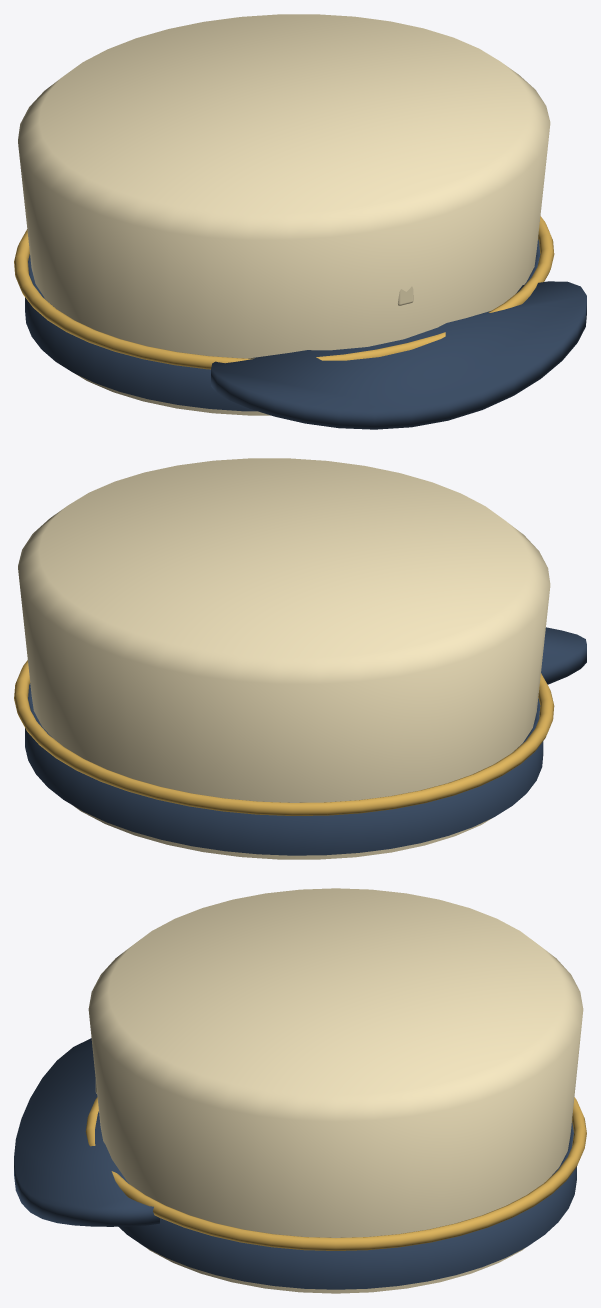
Rendered from 20-lake-captain.glb.
3 views of the same model, one above another, from view 1: azimuth 30°, elevation 25°; view 2: azimuth 150°, elevation 25°; view 3: azimuth 270°, elevation 25° (orthographic).
Visible parts, largest first — view 1: Hat20_Crown1, Hat20_Visor3, Hat20_Band2, Hat20_Piping4; view 2: Hat20_Crown1, Hat20_Band2, Hat20_Piping4, Hat20_Visor3; view 3: Hat20_Crown1, Hat20_Band2, Hat20_Visor3, Hat20_Piping4.
Part boxes in pixels (x1=…): Hat20_Crown1: x1=18, y1=14, x2=550, y2=415; Hat20_Visor3: x1=211, y1=281, x2=586, y2=429; Hat20_Band2: x1=25, y1=239, x2=540, y2=411; Hat20_Piping4: x1=14, y1=216, x2=554, y2=369; Hat20_Crown1: x1=18, y1=458, x2=550, y2=859; Hat20_Band2: x1=25, y1=683, x2=543, y2=855; Hat20_Piping4: x1=14, y1=660, x2=554, y2=815; Hat20_Visor3: x1=541, y1=627, x2=586, y2=684; Hat20_Crown1: x1=88, y1=888, x2=583, y2=1293; Hat20_Band2: x1=118, y1=1121, x2=576, y2=1289; Hat20_Visor3: x1=14, y1=1038, x2=159, y2=1226; Hat20_Piping4: x1=85, y1=1097, x2=586, y2=1250.
Size of the model in its own units: 0.694 by 0.28 by 0.7367.
